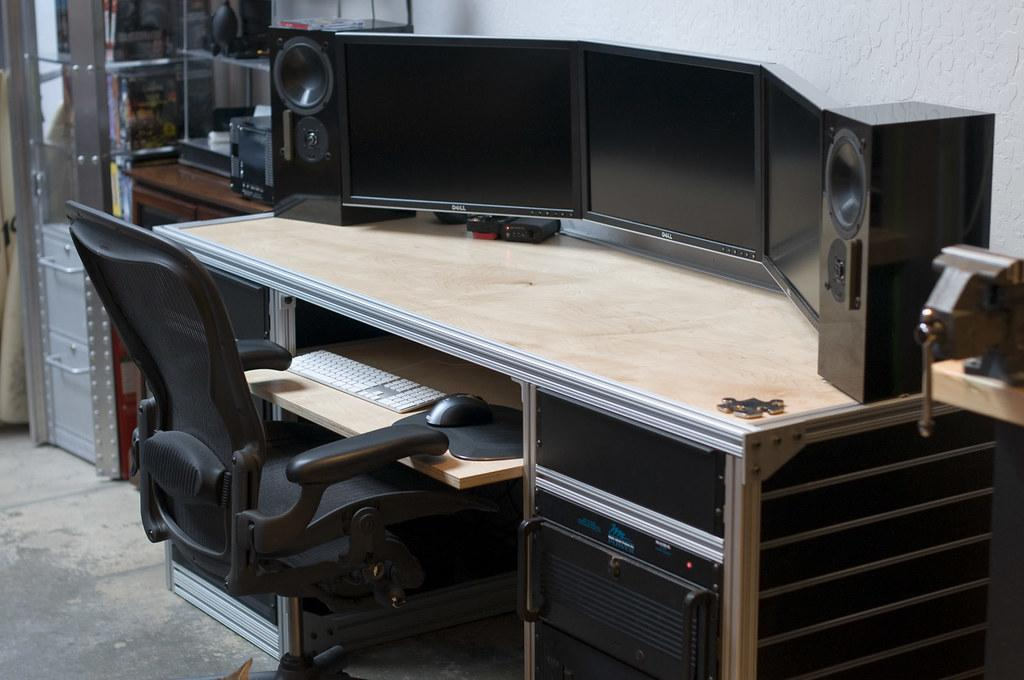computer: (560, 38, 781, 295), (817, 101, 996, 405), (333, 32, 582, 242)
